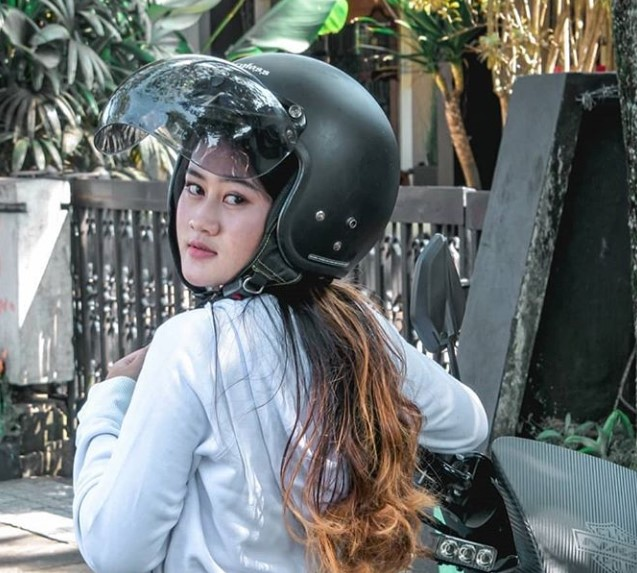face_no_mask: (162, 111, 309, 298)
